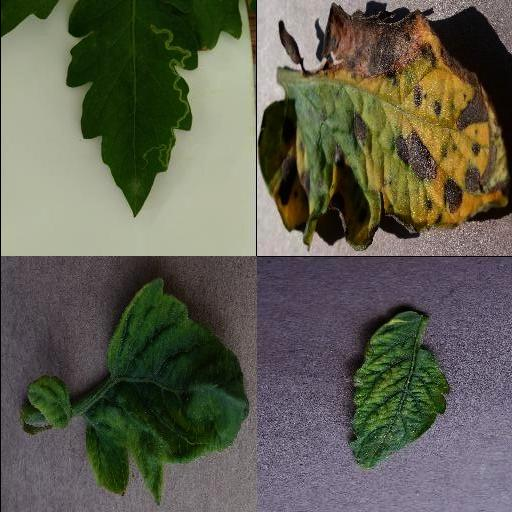Early Blight: (256, 5, 506, 250)
Leaf Miner: (65, 0, 197, 219)
Mosaic Virus: (346, 310, 448, 470)
Yellow Leaf Curl Virus: (81, 277, 251, 507), (24, 374, 72, 432)
